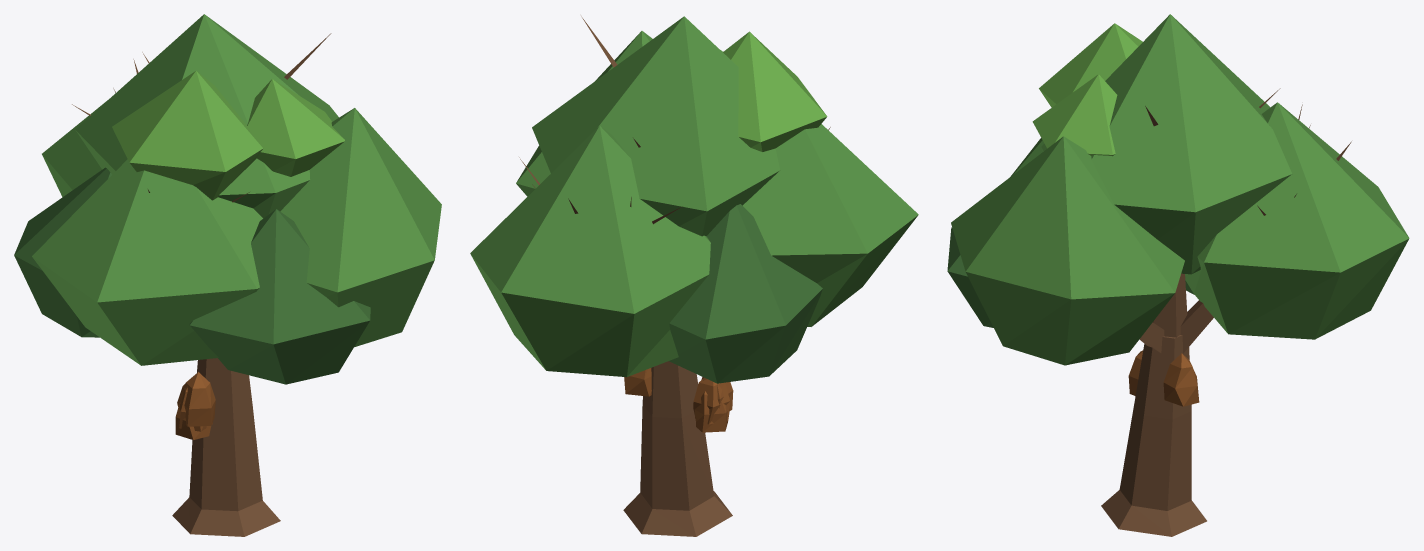
File: tree_cocoa.obj
3 renders of one model, left to right at view 1: azimuth 30°, elevation 25°; view 2: azimuth 150°, elevation 25°; view 3: azimuth 270°, elevation 25°, orthographic. The views are drawn at different scales.
Parts seen in each view (by area): view 1: tree_cocoa; view 2: tree_cocoa; view 3: tree_cocoa.
Part boxes in pixels (x1=…): tree_cocoa: x1=14, y1=14, x2=441, y2=536; tree_cocoa: x1=470, y1=16, x2=918, y2=536; tree_cocoa: x1=947, y1=14, x2=1409, y2=536.
Size of the model in its own units: 0.6072 by 0.8041 by 0.6788.
